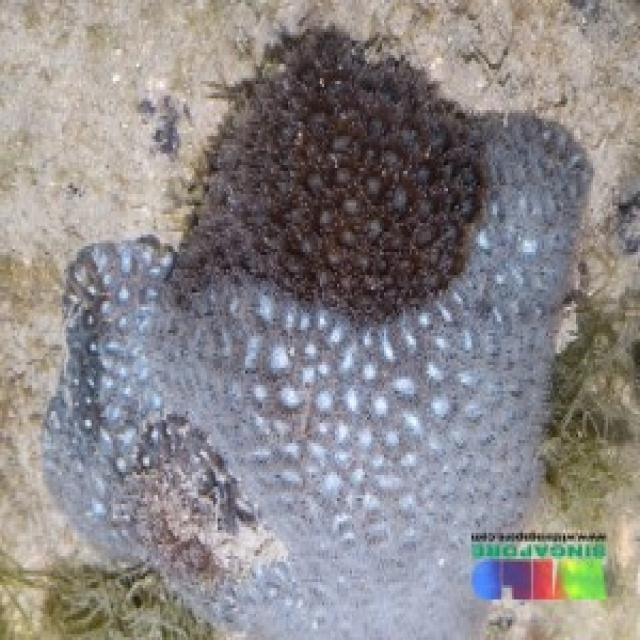Bleached: (40, 117, 590, 640)
Healthy: (173, 37, 482, 318)
